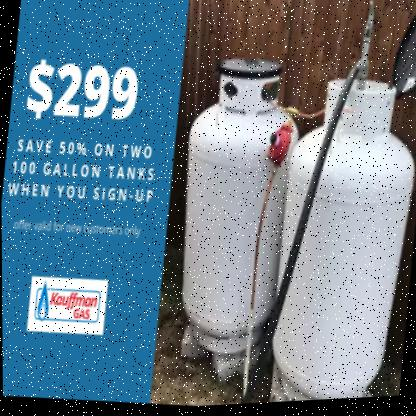gas-tank: (255, 64, 415, 405), (150, 45, 305, 385)
